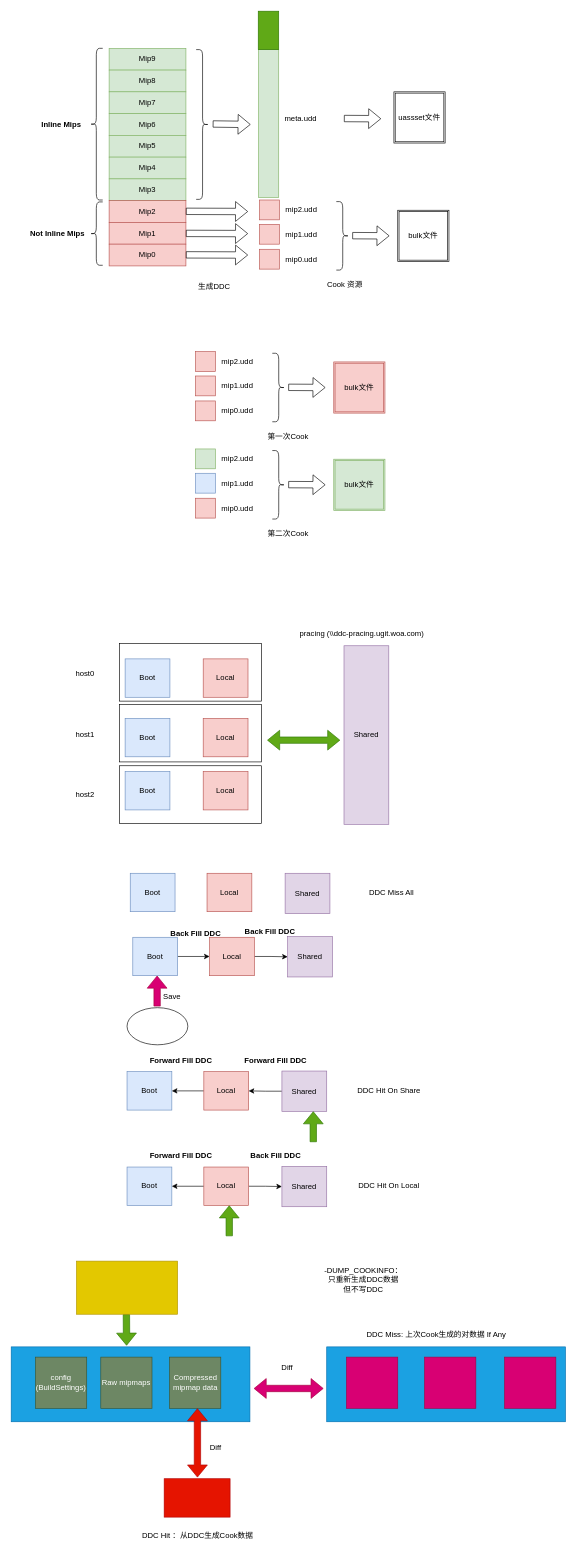
The diagram is 577 pixels wide and 1555 high, and some of its shapes have lost their labels. The shapes that lost their labels are listed below. From the top down, each one's centre as x and y in pixels, then its label:
At (x=268, y=30): "Meta".
At (x=268, y=123): "Mips 3-9".
At (x=157, y=1026): "Creat DDC Local".
At (x=127, y=1287): "-DUMP_COOKINFO： 只重新生成DDC数据 但不写DDC存储".
At (x=197, y=1497): "Compressed Mipmap Data(From DDC)".
